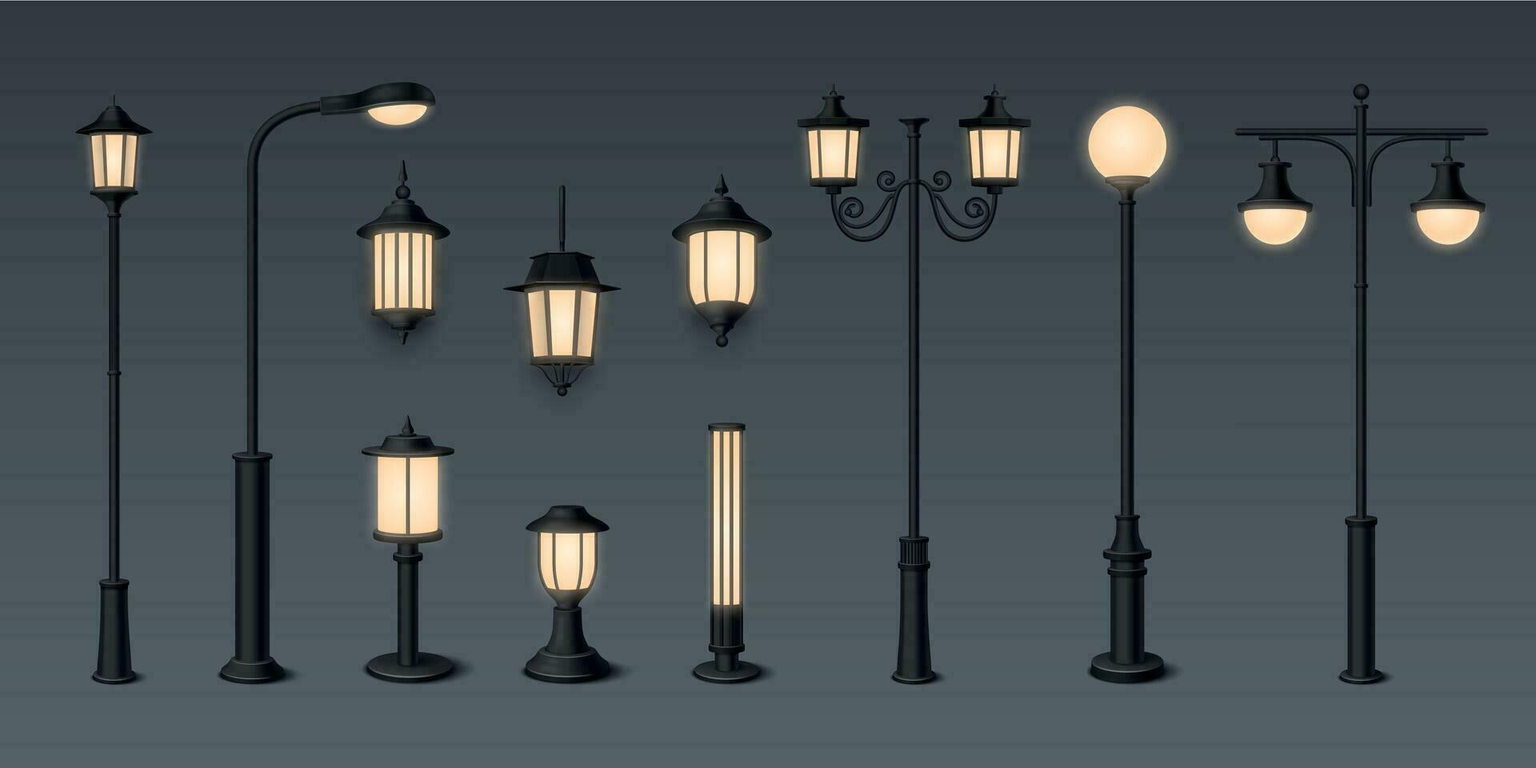Lamp: (1229, 89, 1498, 718), (789, 91, 1049, 694), (224, 79, 442, 684), (1063, 102, 1232, 690), (50, 103, 169, 678)
